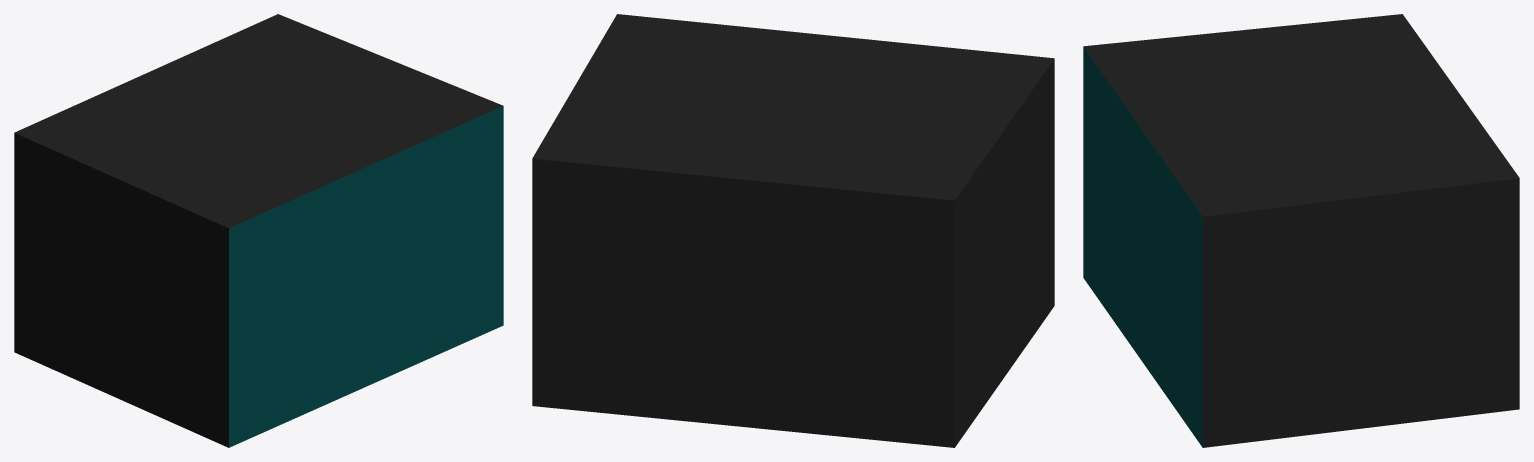
Rendered from B_Werth_55_C_.FBX.
3 renders of one model, left to right at view 1: azimuth 30°, elevation 25°; view 2: azimuth 150°, elevation 25°; view 3: azimuth 270°, elevation 25°, orthographic. The views are drawn at different scales.
Visible parts, largest first — view 1: B_Werth_55_C, B_Werth_55_C_front; view 2: B_Werth_55_C; view 3: B_Werth_55_C, B_Werth_55_C_front.
Part boxes in pixels (x1,y1,x2,y2): B_Werth_55_C: (14, 14, 503, 447); B_Werth_55_C_front: (229, 106, 503, 447); B_Werth_55_C: (532, 14, 1054, 447); B_Werth_55_C: (1083, 14, 1519, 447); B_Werth_55_C_front: (1083, 47, 1202, 447).
Bounding box in the file's own units: 1881 × 1000 × 1712.
